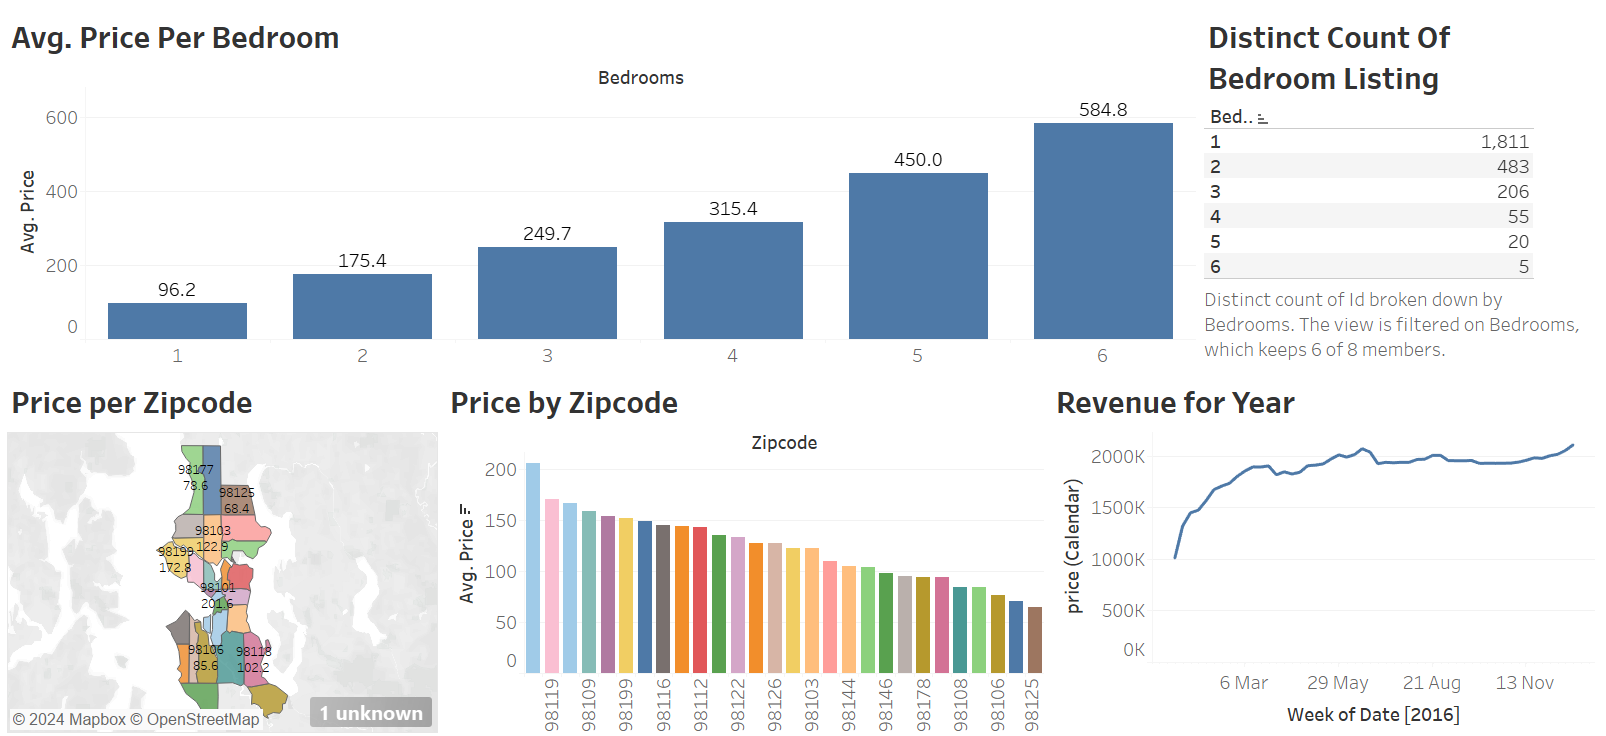

The dashboard page shown, as its layout file describes it:
{"tool":"tableau","page":{"name":"Dashboard 1","canvas":[1000,1000],"units":"permille","ordinal":0},"visuals":[{"type":"worksheet","title":"Sheet 4","mark":"Automatic","rows":["price"],"cols":["bedrooms"],"box":[5,10.7,742.6,489.2]},{"type":"worksheet","title":"Sheet 5","mark":"Automatic","rows":["bedrooms"],"box":[747.5,10.7,247.5,489.2]},{"type":"worksheet","title":"Sheet 2","mark":"Multipolygon","box":[5,500,272.3,489.3]},{"type":"worksheet","title":"Sheet 1","mark":"Automatic","rows":["price"],"cols":["zipcode"],"box":[277.3,500,375.9,489.3]},{"type":"legend","title":"Sheet 1","param":"[federated.090s5bv1eqgqtq1cdqn5o0qgivnf].[none:zipcode:ok]","box":[653.2,500,94.3,489.3]},{"type":"worksheet","title":"Sheet 3","mark":"Automatic","rows":["price (Calendar)"],"cols":["date"],"box":[747.5,500,247.5,489.3]}]}

Visuals, with their boxes on the dashboard's canvas, which has no fixed pixel size, in thousandths of its width and height (x1, y1, x2, y2). These are canvas units, not pixel positions in the 1606x736 screenshot, which may show the page scaled, cropped or inside an application window:
"Sheet 4" worksheet: x1=5, y1=11, x2=748, y2=500
"Sheet 5" worksheet: x1=748, y1=11, x2=995, y2=500
"Sheet 2" worksheet (Multipolygon marks): x1=5, y1=500, x2=277, y2=989
"Sheet 1" worksheet: x1=277, y1=500, x2=653, y2=989
"Sheet 1" legend: x1=653, y1=500, x2=748, y2=989
"Sheet 3" worksheet: x1=748, y1=500, x2=995, y2=989
